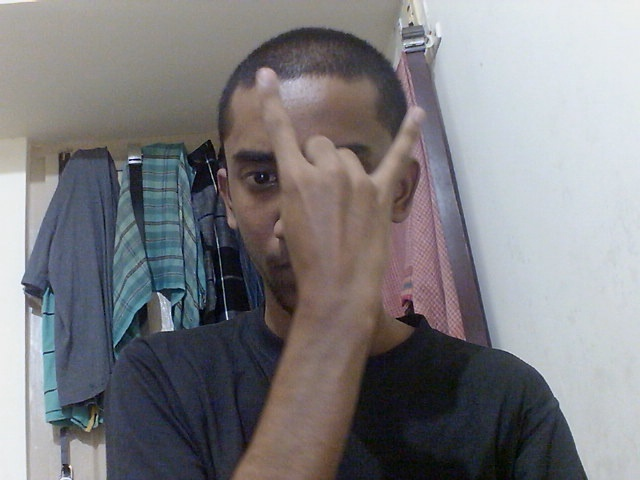hand: (253, 63, 430, 316)
